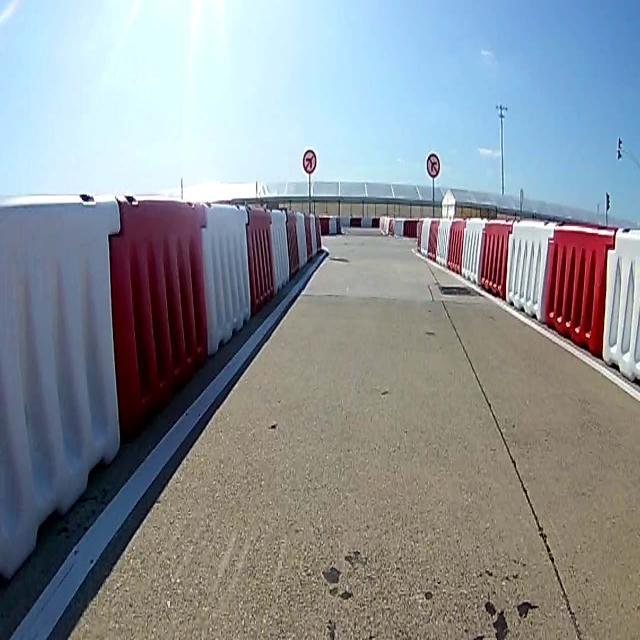sagadonulmez: (426, 152, 440, 180)
soladonulmez: (302, 148, 316, 175)
